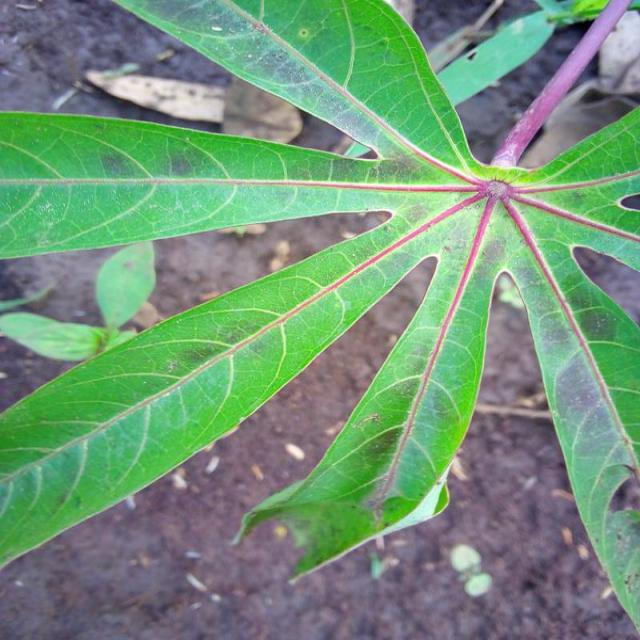cassava leaf: (2, 0, 640, 631)
